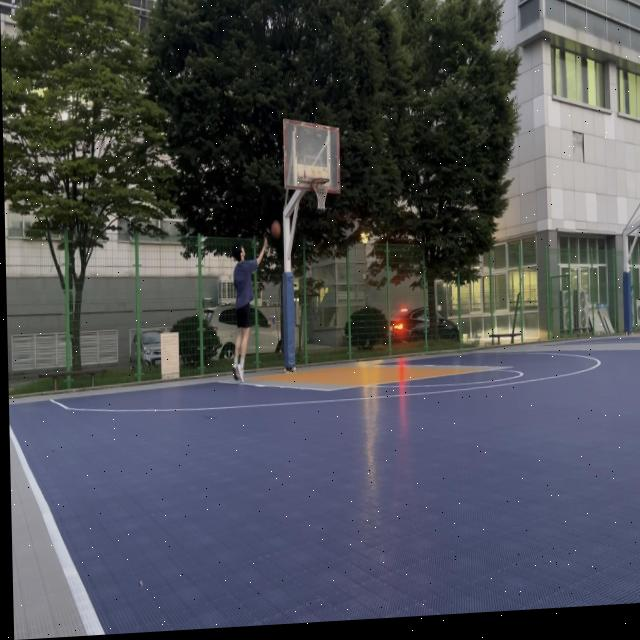basketball: (271, 219, 281, 240)
hoop: (312, 176, 331, 211)
